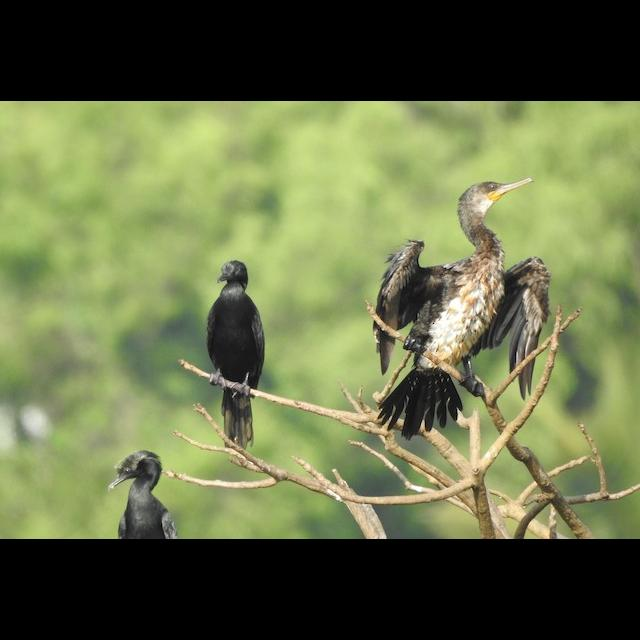cormorant: (364, 169, 558, 443), (203, 252, 270, 458), (99, 446, 181, 538)
